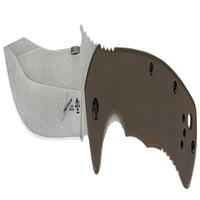knife: (2, 30, 200, 178)
